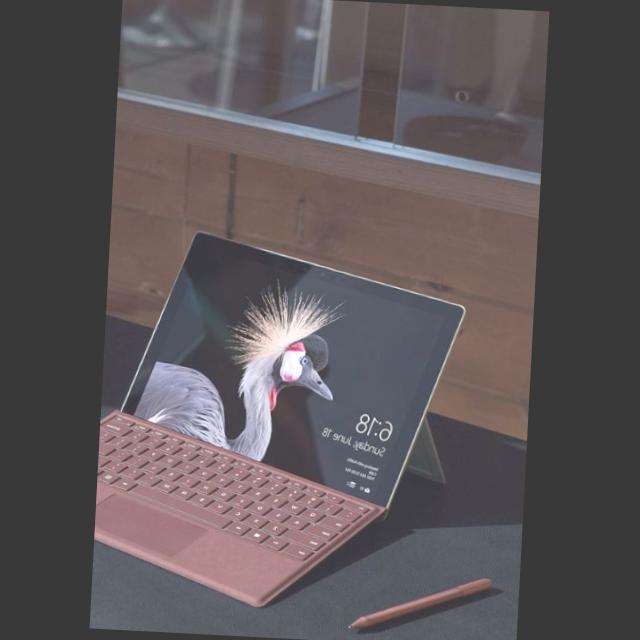laptop: (92, 219, 486, 610)
